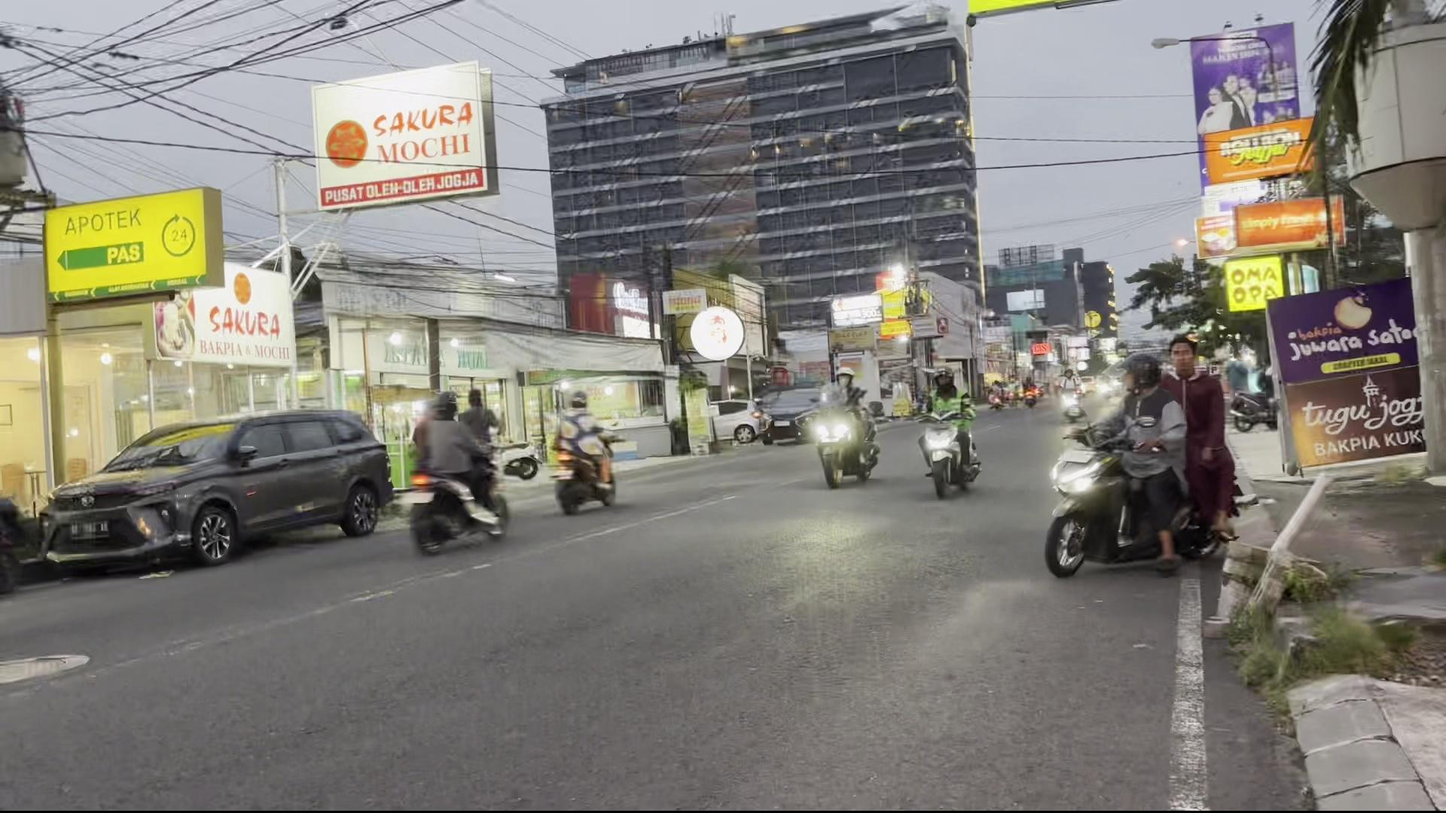helm: (1111, 345, 1166, 397)
nohelm: (1162, 332, 1205, 383)
riding: (1041, 328, 1250, 582)
